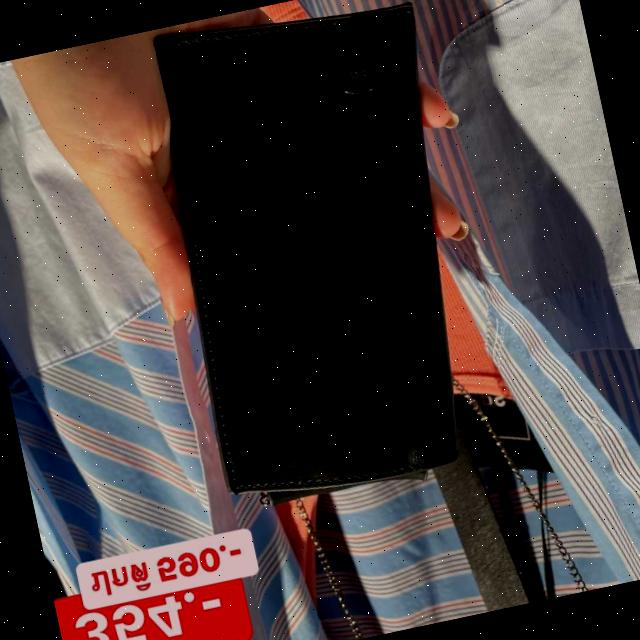Handbag: (123, 0, 521, 541)
